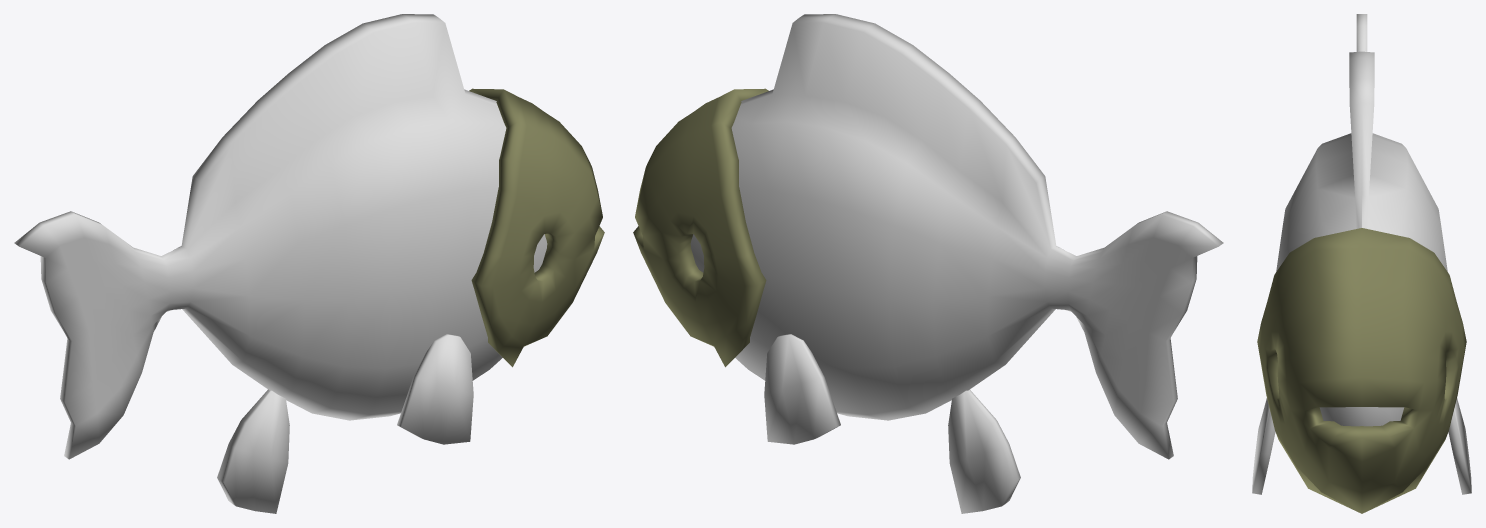
The model's file is FishyMCPlaceholder.fbx.
The picture shows the model from 3 angles, left to right: view 1: azimuth 30°, elevation 25°; view 2: azimuth 150°, elevation 25°; view 3: azimuth 270°, elevation 25°; orthographic projection. The views are drawn at different scales.
Parts seen in each view (by area): view 1: Sphere, Plane; view 2: Sphere, Plane; view 3: Plane, Sphere.
Part boxes in pixels (x1,y1,x2,y2): Sphere: [14, 14, 547, 513]; Plane: [469, 88, 604, 367]; Sphere: [690, 14, 1223, 513]; Plane: [633, 88, 768, 367]; Plane: [1257, 228, 1466, 513]; Sphere: [1252, 14, 1471, 494].
Bounding box in the file's own units: 1078 × 812 × 335.
